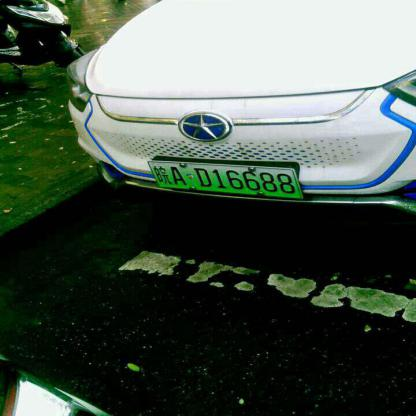lp: (150, 162, 300, 198)
